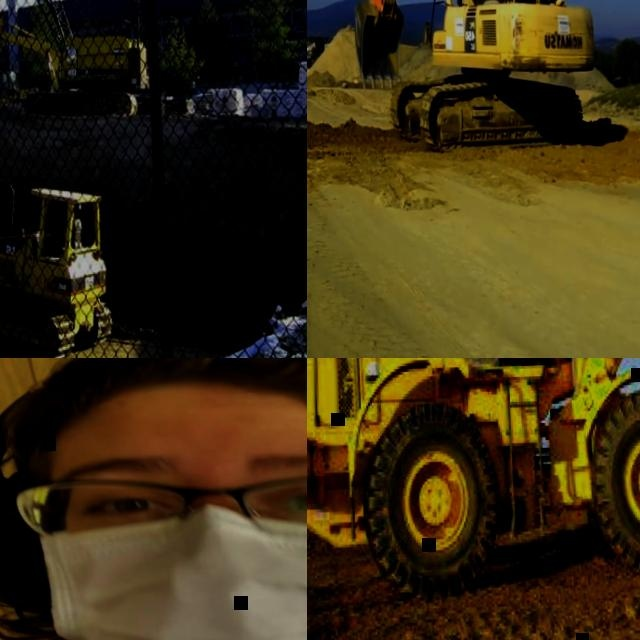Mask: (29, 511, 307, 640)
NO-Hardhat: (0, 358, 307, 466)
Person: (0, 358, 307, 640)
machinery: (307, 358, 640, 618), (346, 0, 597, 152), (0, 181, 109, 358), (0, 7, 144, 121)
